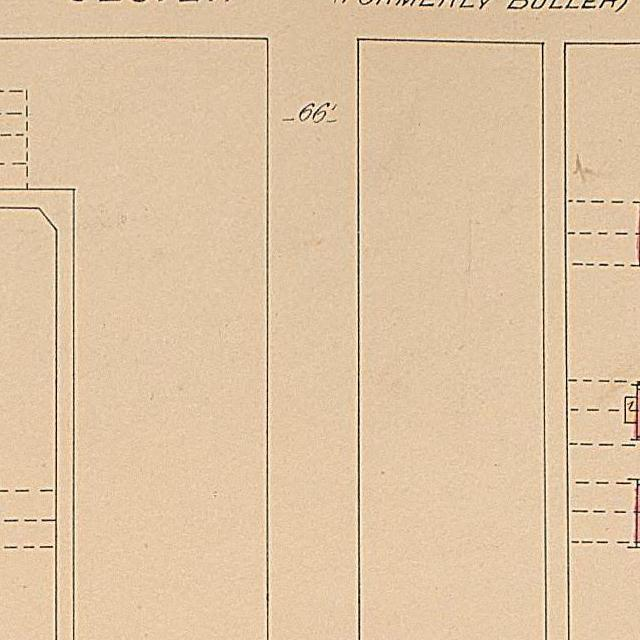building-footprints: (625, 397, 637, 422)
